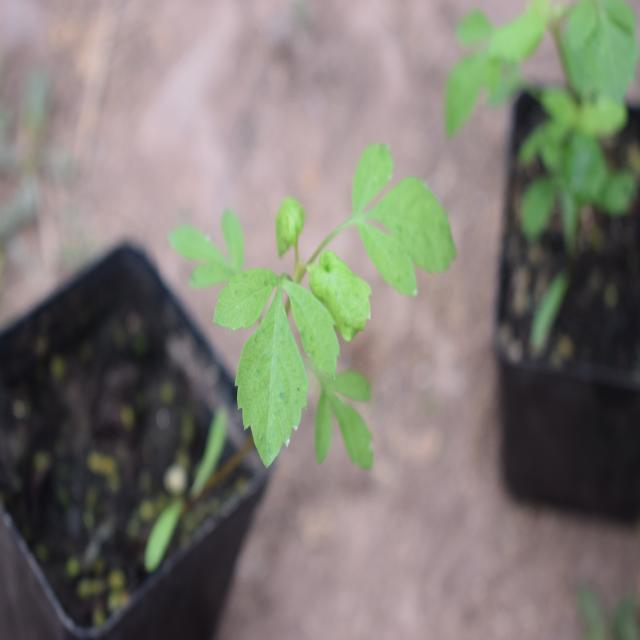Bidens pilosa: (174, 135, 460, 476)
